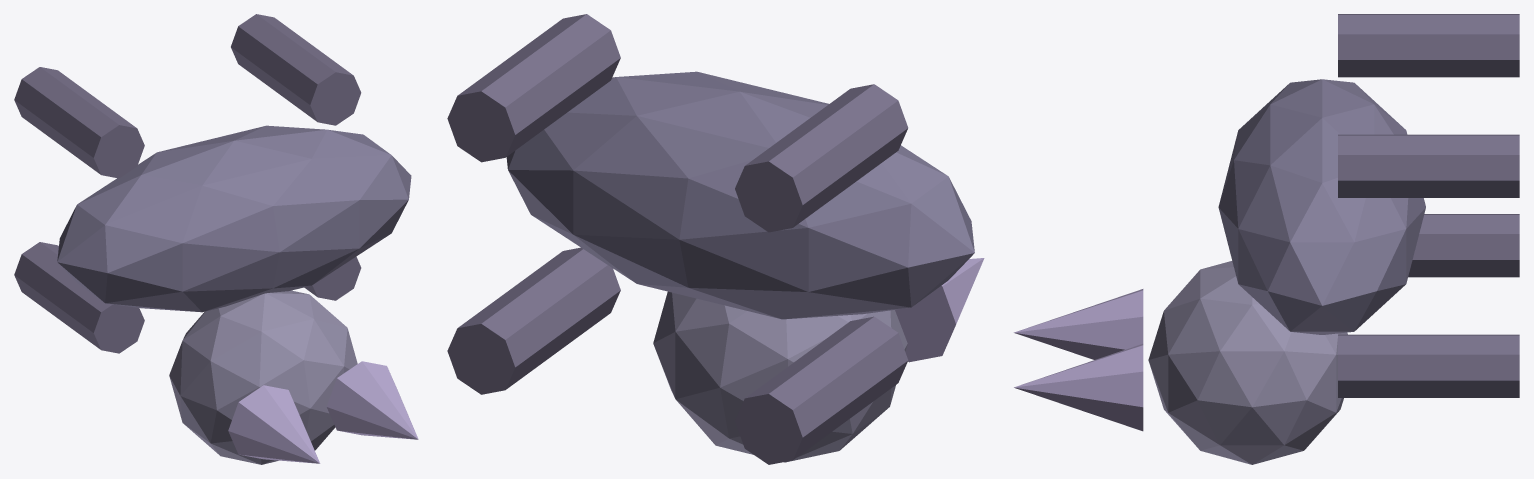
Rendered from stinovy-vlcek.glb.
3 views of the same model, side by side, from view 1: azimuth 30°, elevation 25°; view 2: azimuth 150°, elevation 25°; view 3: azimuth 270°, elevation 25° (orthographic). The views are drawn at different scales.
Parts seen in each view (by area): view 1: world; view 2: world; view 3: world.
Part boxes in pixels (bbox=[...]): world: bbox=[14, 14, 418, 464]; world: bbox=[447, 14, 984, 464]; world: bbox=[1014, 14, 1519, 464].
Bounding box in the file's own units: 1.8 × 1.61 × 1.95.
